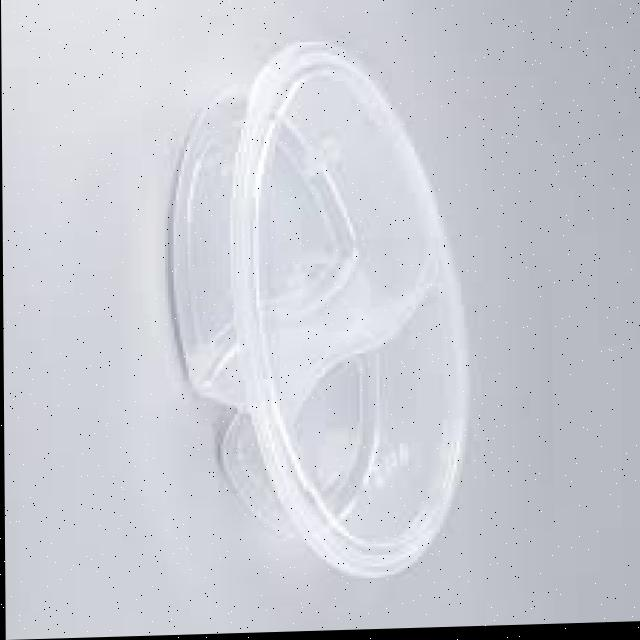disposable: (161, 31, 482, 598)
